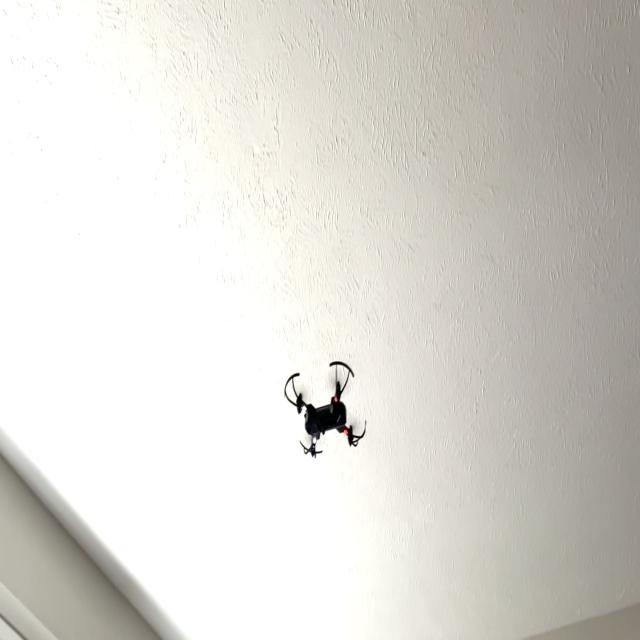drone: (271, 342, 377, 470)
